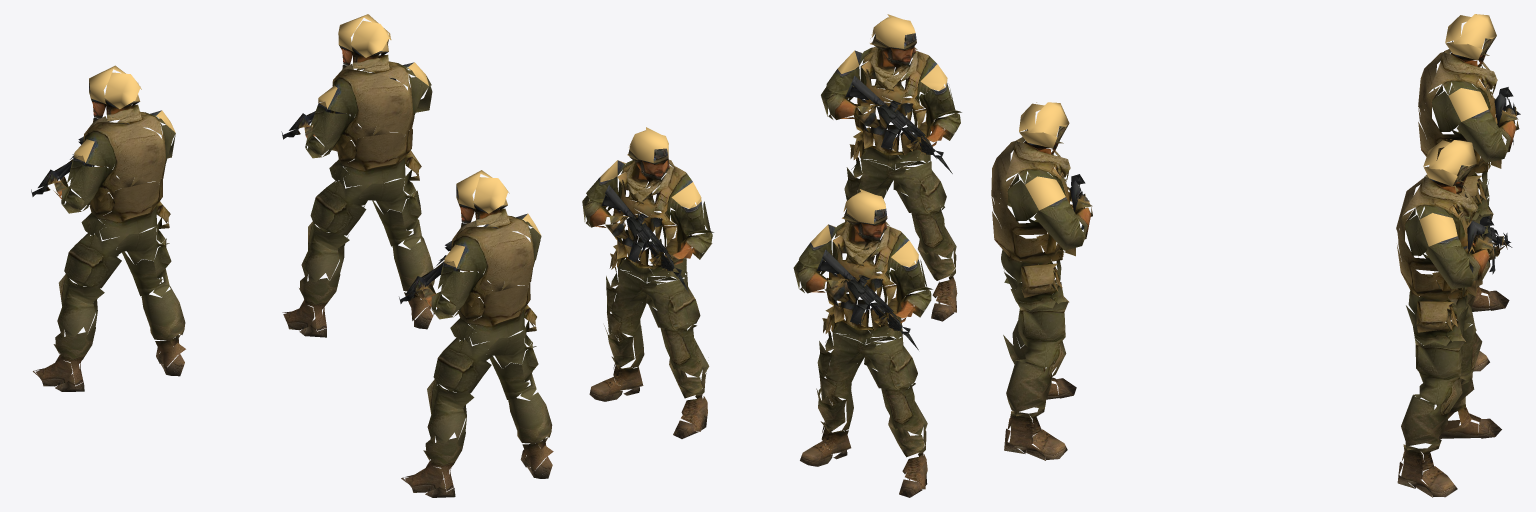
File: militia.glb
3 views of the same model, side by side, from view 1: azimuth 30°, elevation 25°; view 2: azimuth 150°, elevation 25°; view 3: azimuth 270°, elevation 25° (orthographic). The views are drawn at different scales.
Parts seen in each view (by area): view 1: MilitiaSquad; view 2: MilitiaSquad; view 3: MilitiaSquad.
Part boxes in pixels (box(x1,y1,x2,y2)): MilitiaSquad: box(31, 14, 553, 497); MilitiaSquad: box(582, 14, 961, 497); MilitiaSquad: box(991, 14, 1520, 497).
Bounding box in the file's own units: 2.43 × 1.81 × 2.67.
2 materials, 1 textured.
